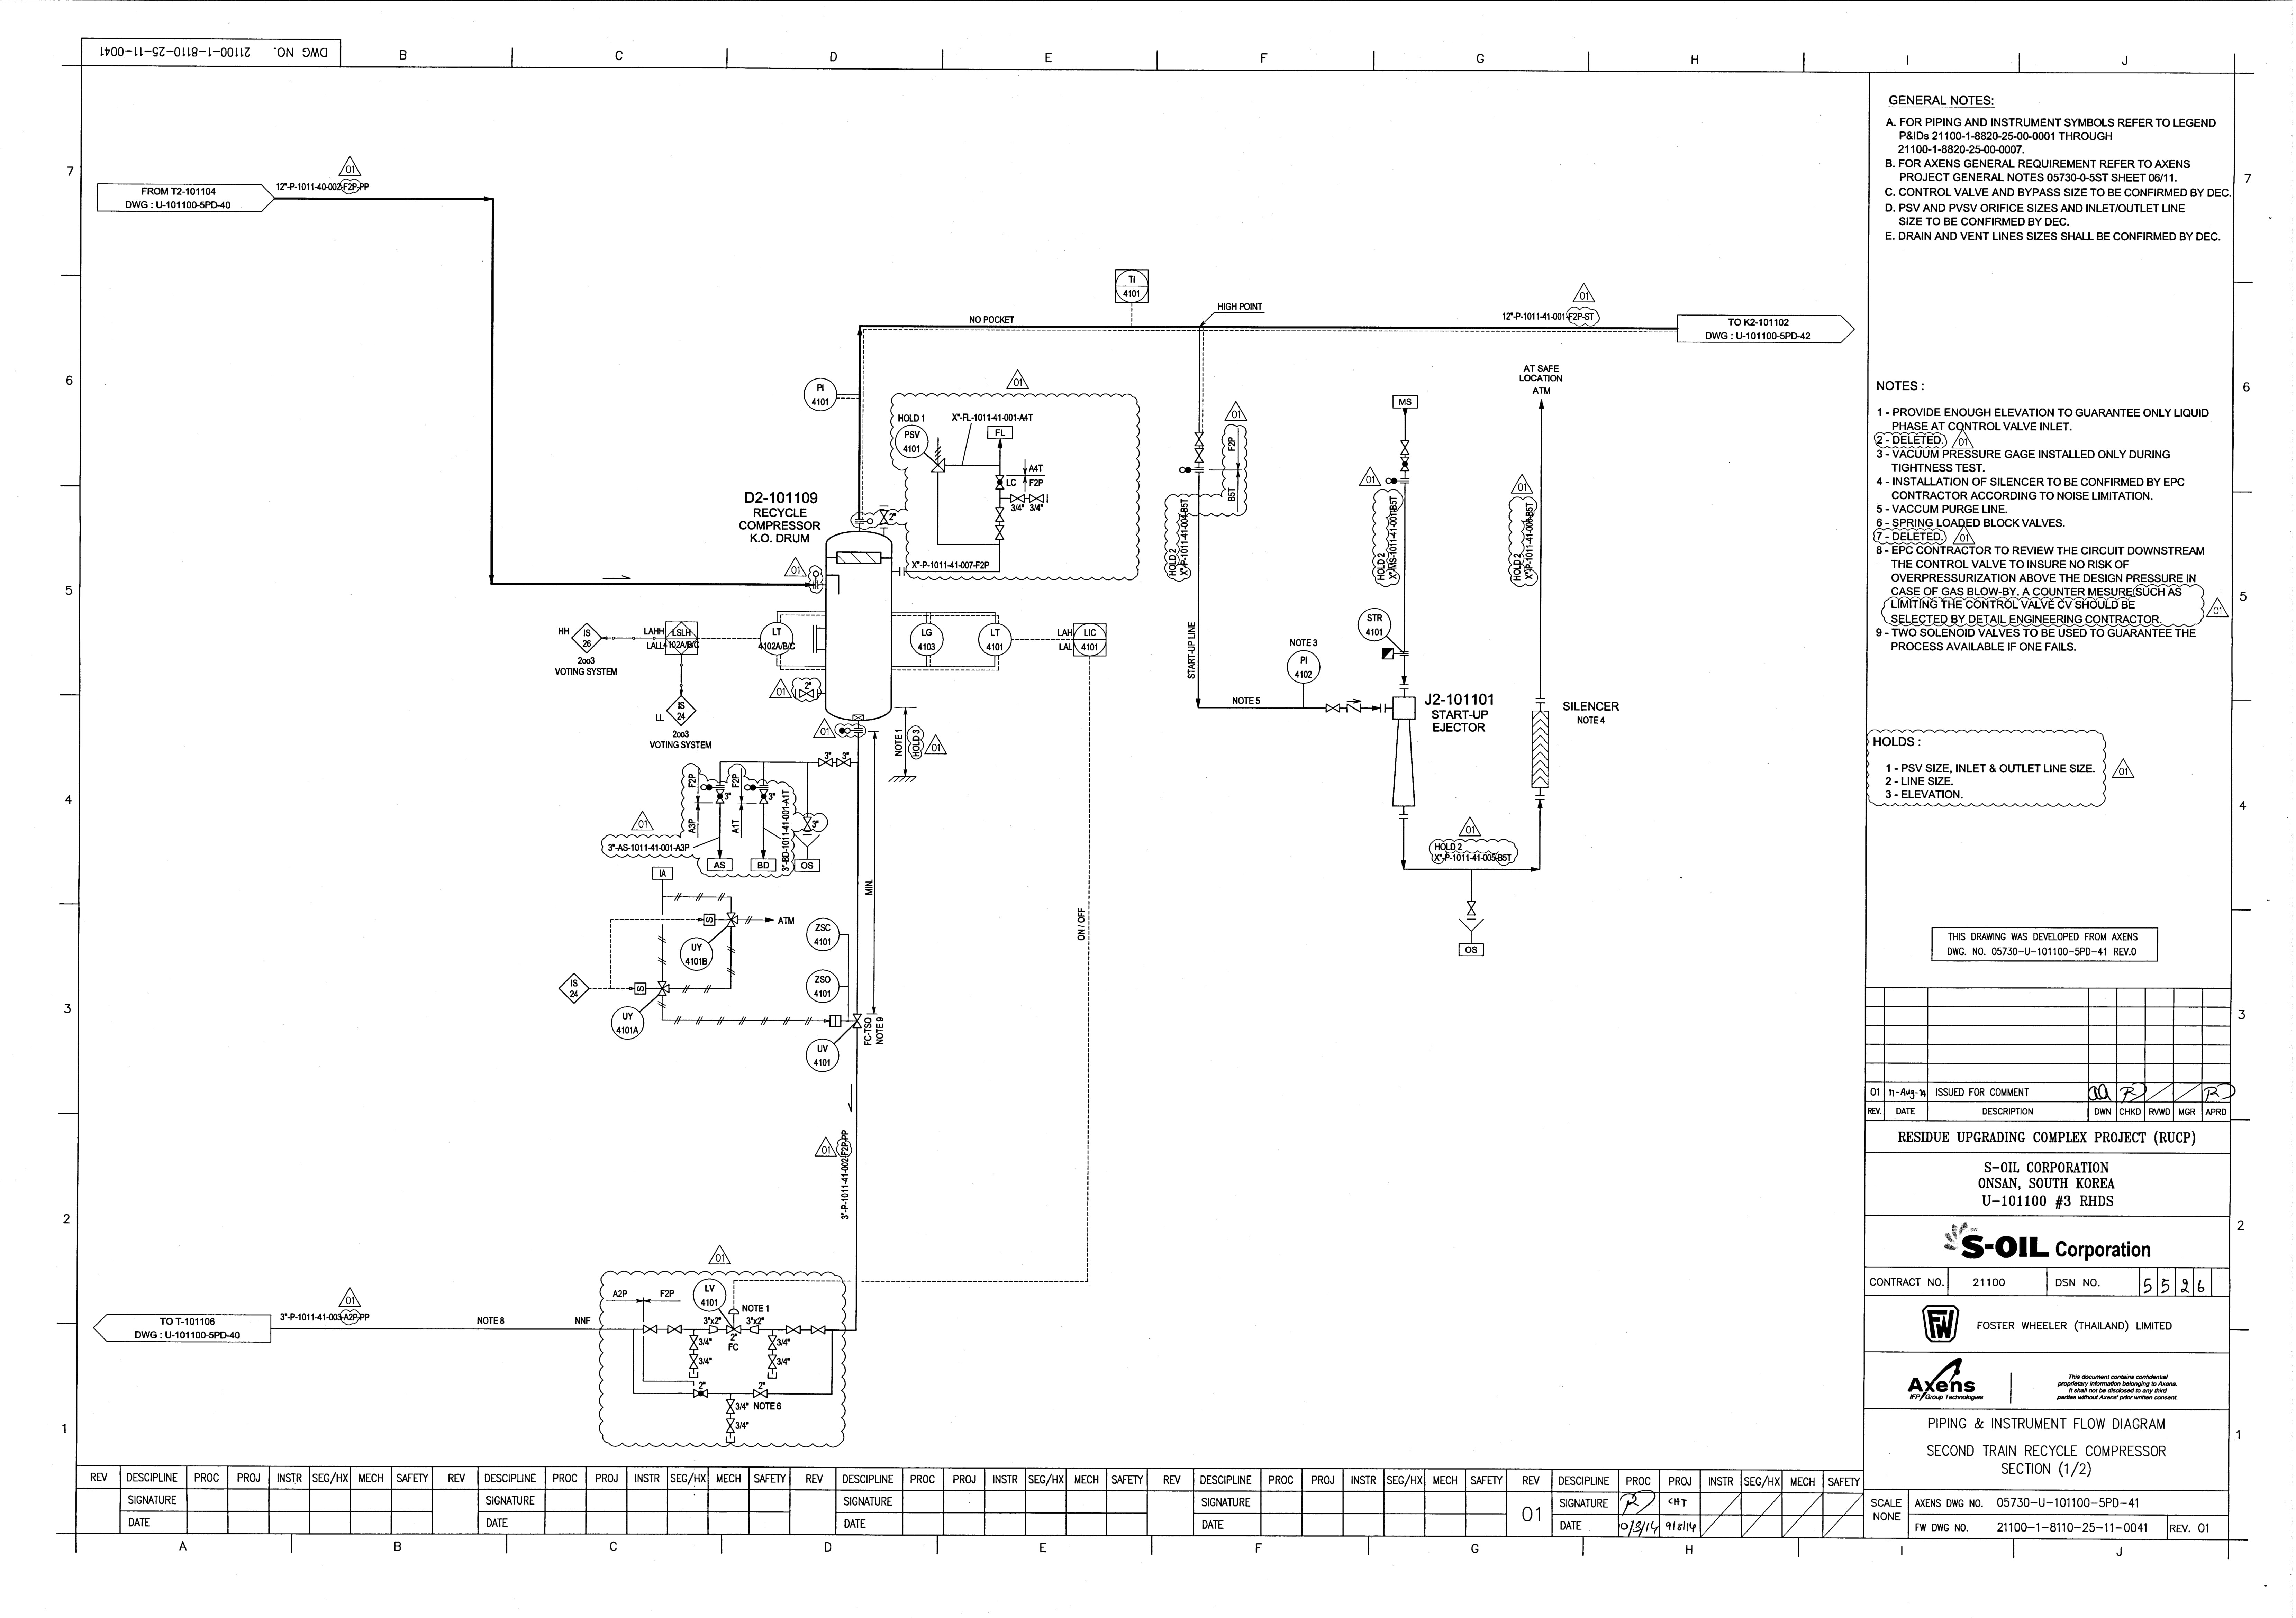butterfly0: (692, 1389, 709, 1399)
butterfly90: (993, 473, 1005, 490), (1399, 455, 1410, 473), (715, 788, 725, 805), (758, 788, 769, 805)
reduce0: (708, 1324, 718, 1334)
reduce180: (750, 1324, 760, 1334)
valvecontrol90: (725, 1308, 743, 1334)
